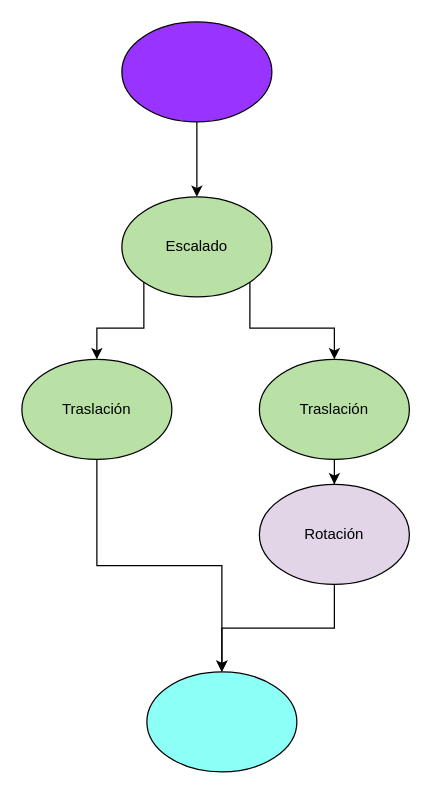
The diagram is 431 pixels wide and 794 high, and some of its shapes have lost their labels. Here are the shapes that lost their labels. From the top down, the centre of each, then its label:
At pixel 196 71: "Brazo".
At pixel 221 721: "Cubo".
